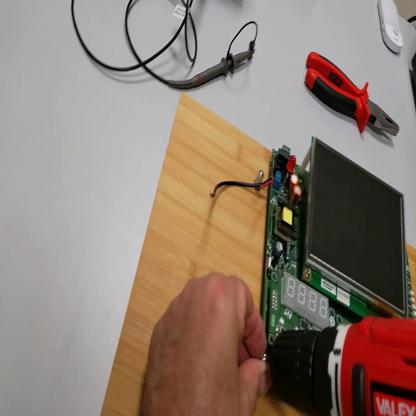electric screwdriver: (265, 316, 416, 416)
hand: (139, 272, 272, 416)
low voltage board: (207, 137, 416, 365)
oscilloscope probe tip: (173, 50, 255, 93)
pliers: (306, 47, 401, 141)
working area: (100, 96, 416, 416)
